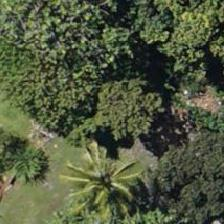coconut_tree: (57, 137, 147, 223)
